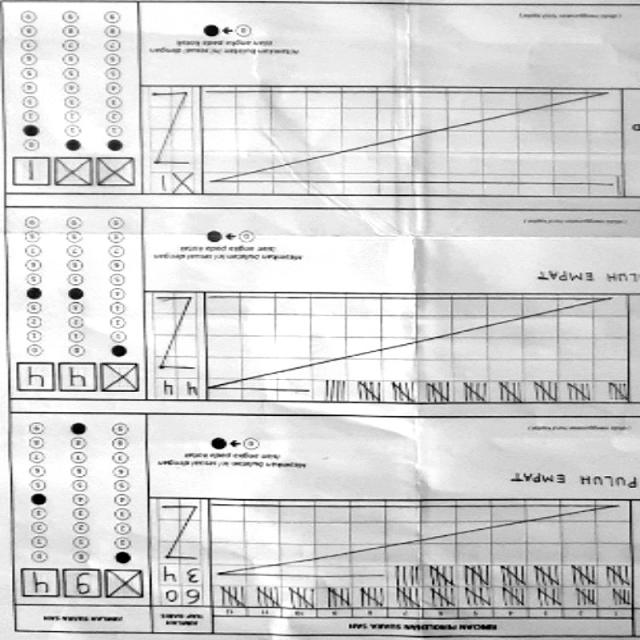Suara: (16, 564, 148, 603), (12, 357, 144, 396), (8, 154, 140, 192)
